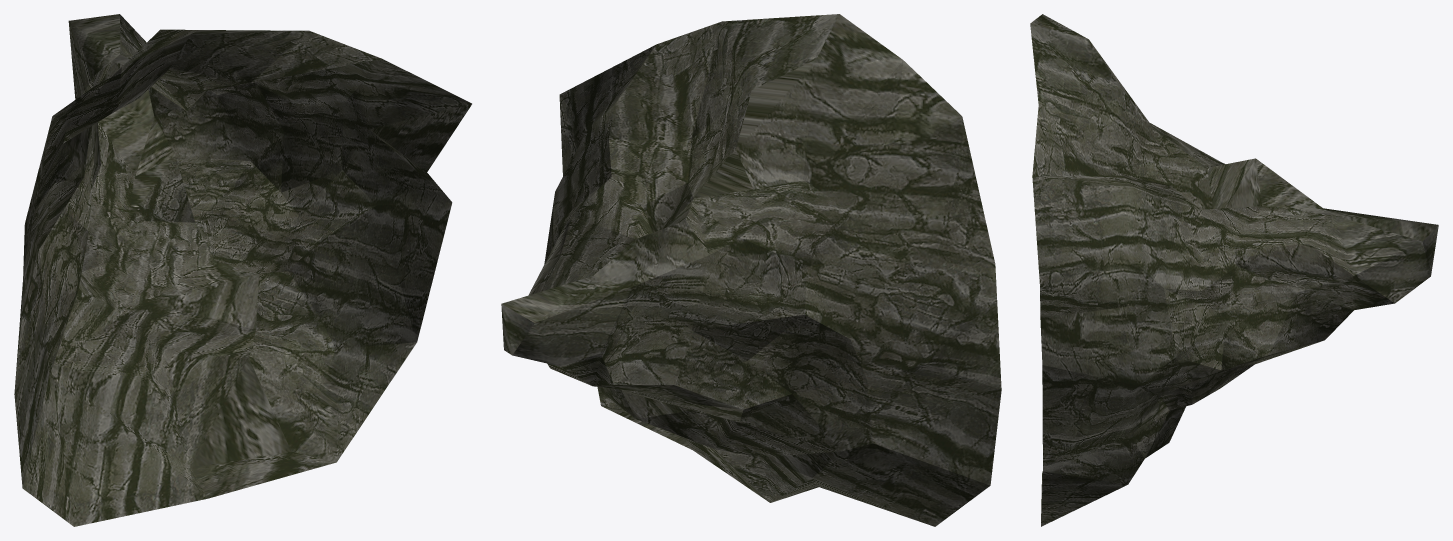
Rendered from kunus rock1 1.FBX.
3 views of the same model, side by side, from view 1: azimuth 30°, elevation 25°; view 2: azimuth 150°, elevation 25°; view 3: azimuth 270°, elevation 25° (orthographic). The views are drawn at different scales.
Visible parts, largest first — view 1: TI_Cliff_02_o; view 2: TI_Cliff_02_o; view 3: TI_Cliff_02_o.
Boxes of the visible parts, bbox=[...] form: TI_Cliff_02_o: bbox=[14, 14, 471, 526]; TI_Cliff_02_o: bbox=[501, 14, 1001, 526]; TI_Cliff_02_o: bbox=[1030, 14, 1438, 526].
Size of the model in its own units: 4.32 by 4.38 by 3.63.
